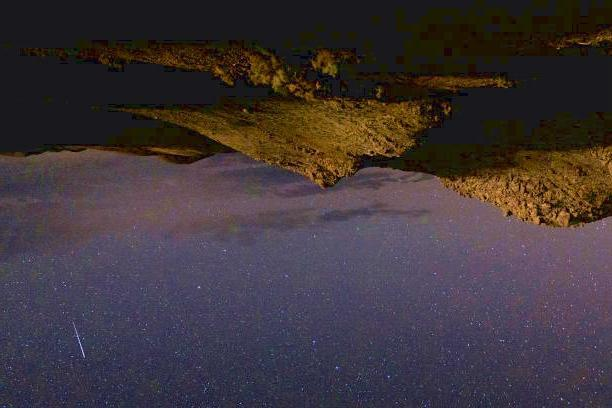meteorite: (62, 313, 95, 371)
